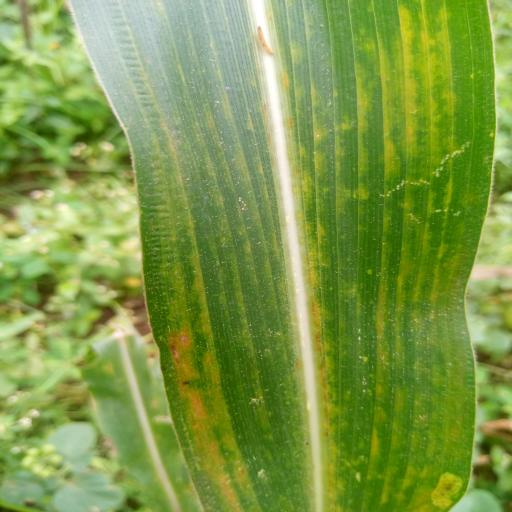Corn_Chlorotic_Leaf_Spot: (64, 0, 508, 512)
